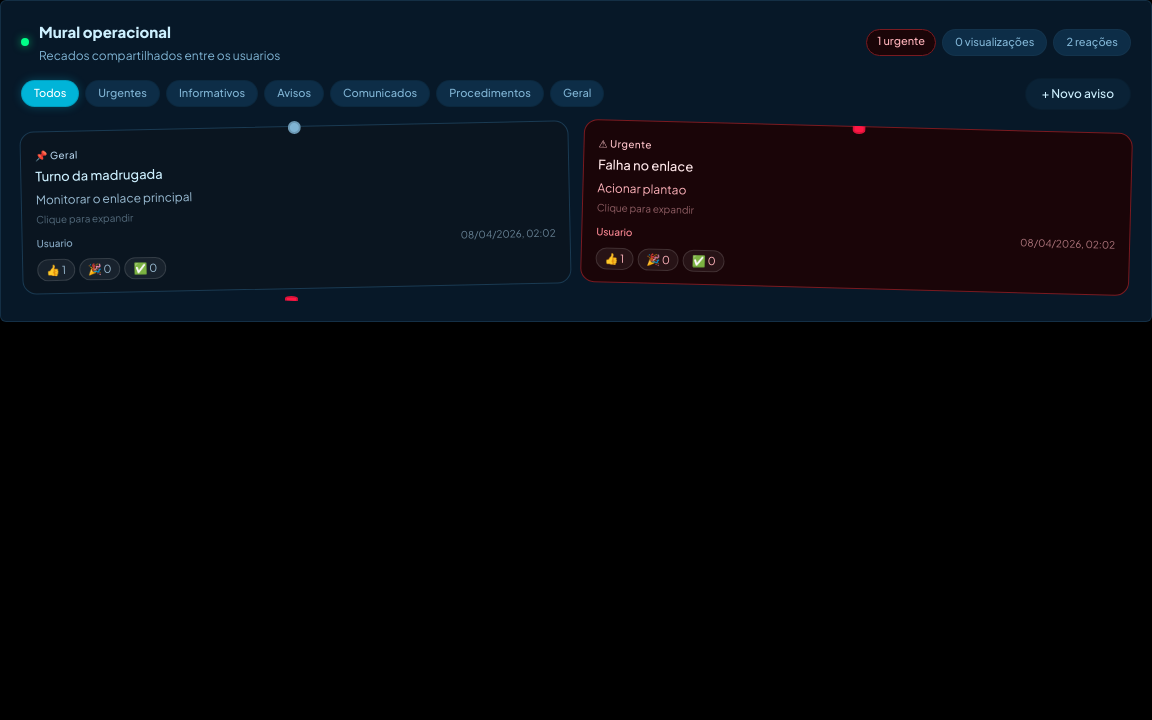
OperationsBoardRail › filtra o mural por categoria e abre o detalhe do recado
Expected: the text "Turno da madrugada" is shown, [35,165,163,184]
Expected: the text "Falha no enlace" is shown, [598,156,693,174]
What coordinates should you click on to do the following:
click the button "Urgentes"
I would click on:
 (123, 94)
Its box is [85,80,160,107].
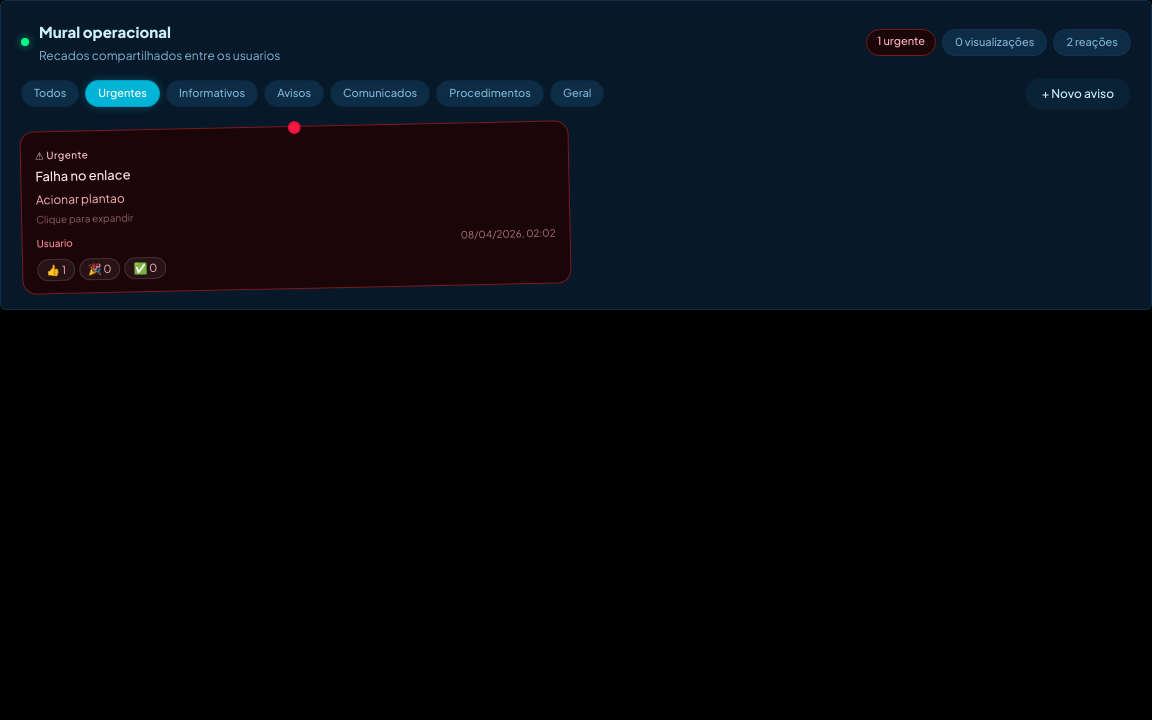
Result: the button "Turno da madrugada" is gone
What coordinates should you click on to do the following:
click the text "Falha no enlace"
I would click on:
 (83, 175)
Its box is [35,166,131,184].
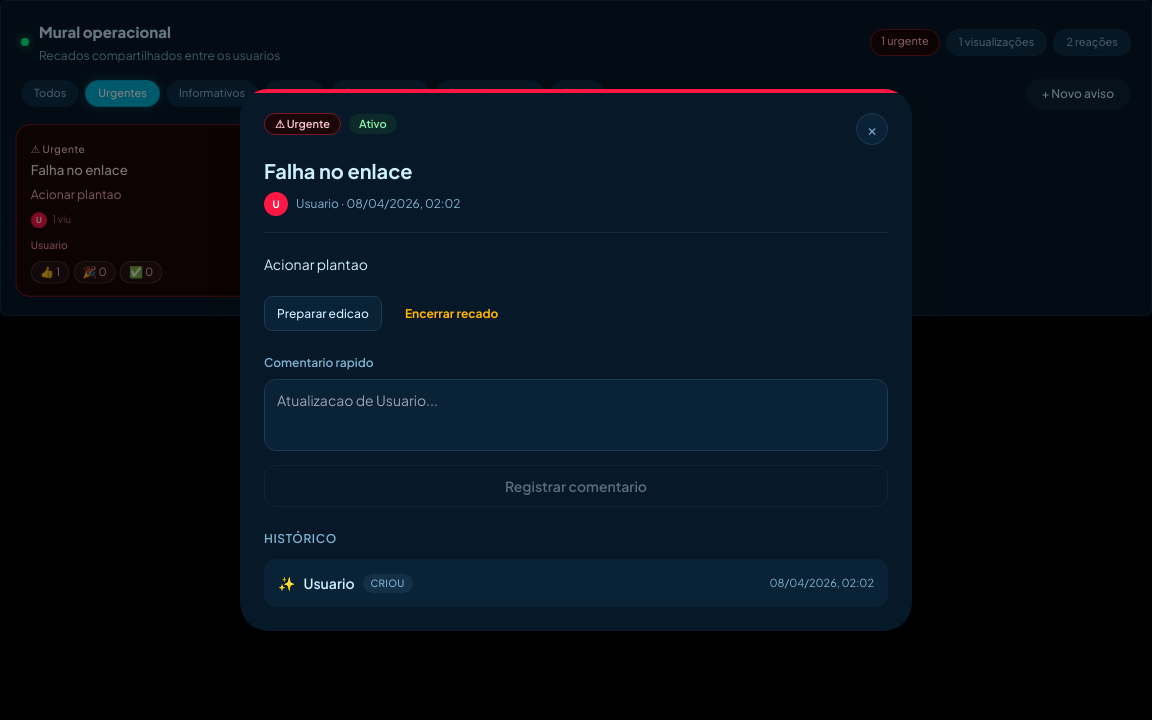
Result: the text "Comentario rapido" is shown at [264,355,374,370]
Result: the button "Preparar edicao" is shown at [264,296,382,331]
